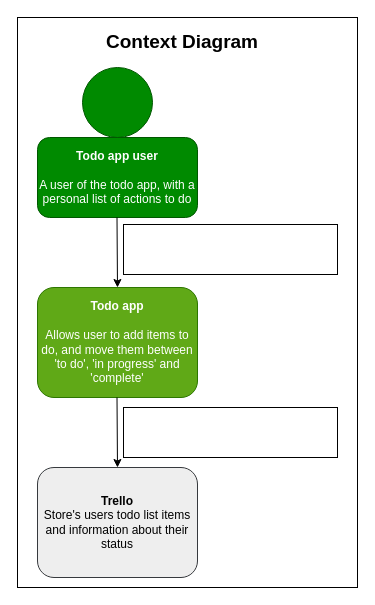
The diagram is 375 pixels wide and 605 high, and some of its shapes have lost their labels. The centre of each missing label's shape, as x and y in pixels:
"Gets todo list items/statuses from, and adds todo list items/statuses to" goes at point 230,432.
"Views, adds and moves todo list items using" goes at point 230,249.
